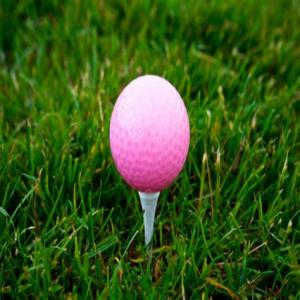Golf: (110, 74, 191, 192)
